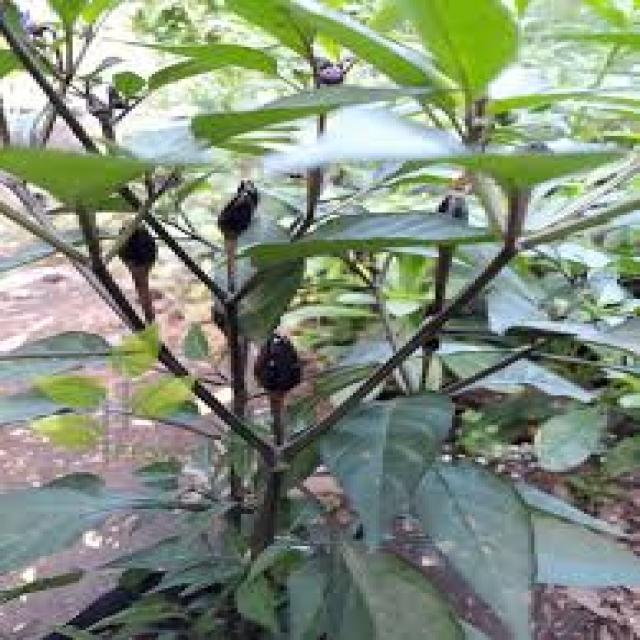Mosaic_virus: (10, 0, 619, 640)
